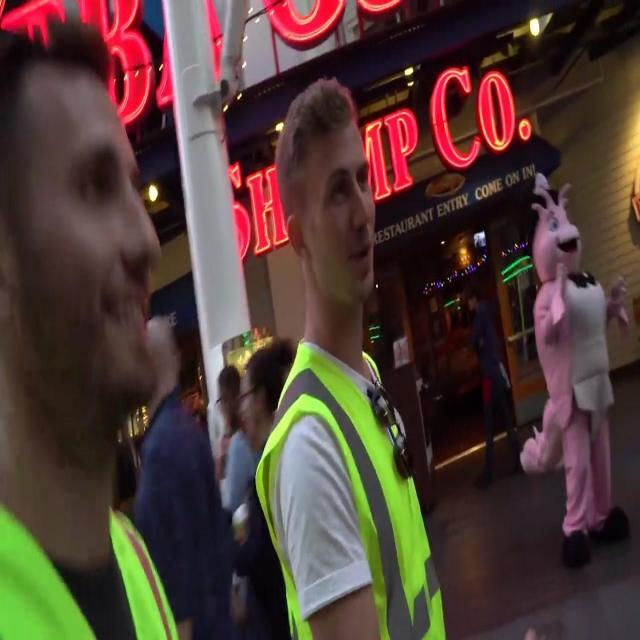vest: (249, 344, 447, 638), (0, 497, 181, 639)
